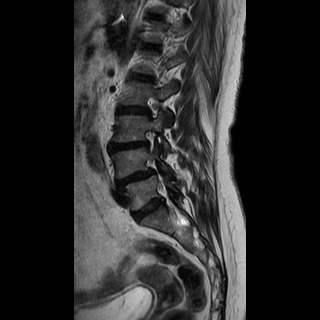LFS0: (137, 90, 164, 125), (137, 127, 162, 157)
